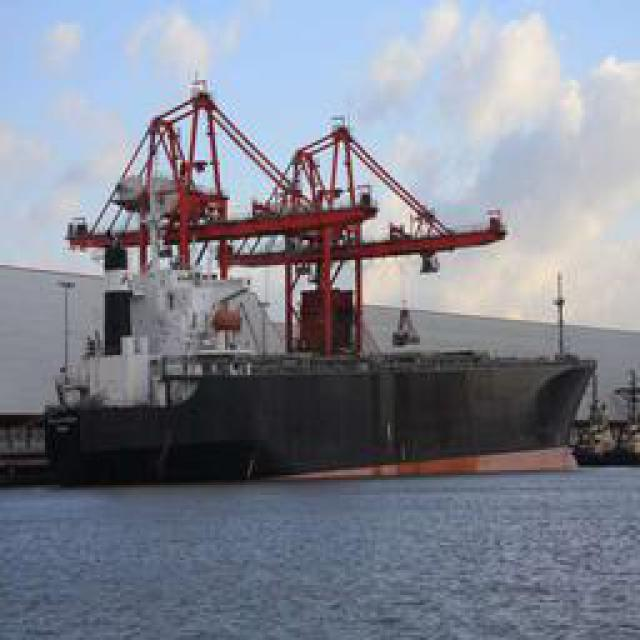Ship: (40, 84, 563, 434)
